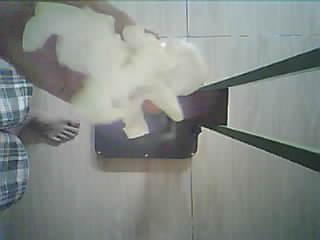paper: (24, 2, 208, 138)
